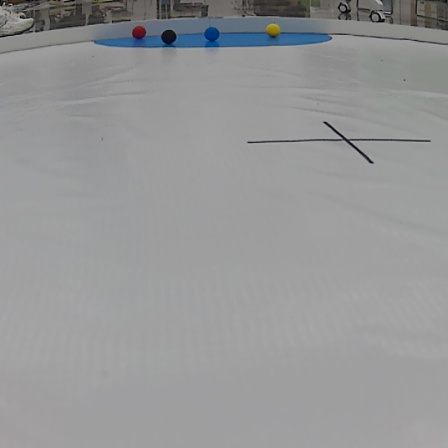black: (159, 31, 180, 43)
blue: (204, 23, 221, 42)
blue_base: (90, 33, 333, 48)
red: (131, 25, 148, 40)
yellow: (265, 21, 282, 40)
